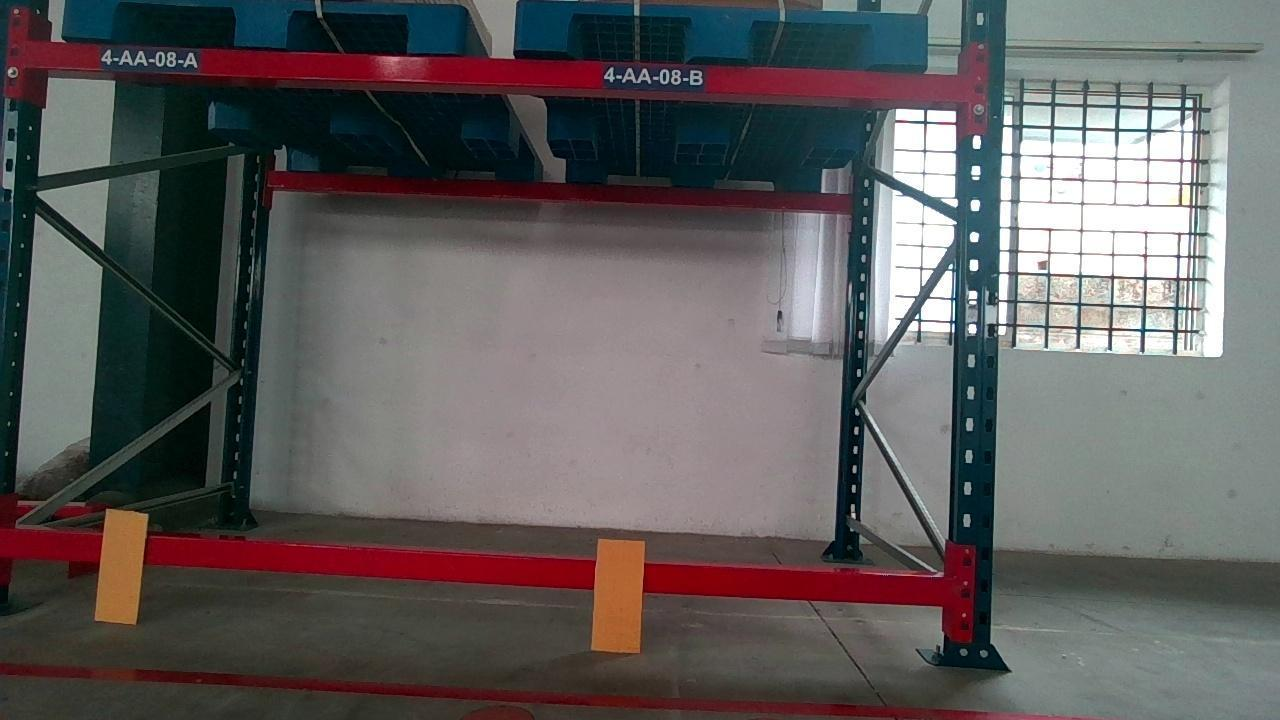h_rack: (0, 531, 948, 604), (11, 43, 969, 101)
orange_strip: (592, 537, 644, 651), (93, 510, 146, 620)
small_pallet: (518, 2, 934, 62), (37, 0, 467, 51)
